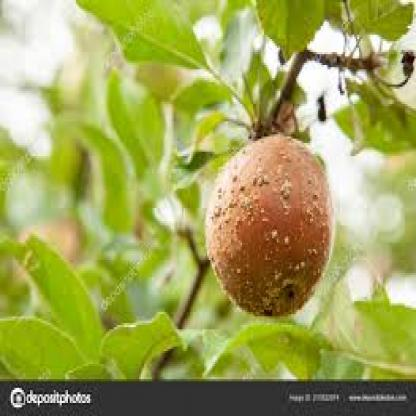damaged_apple: (207, 136, 336, 320)
